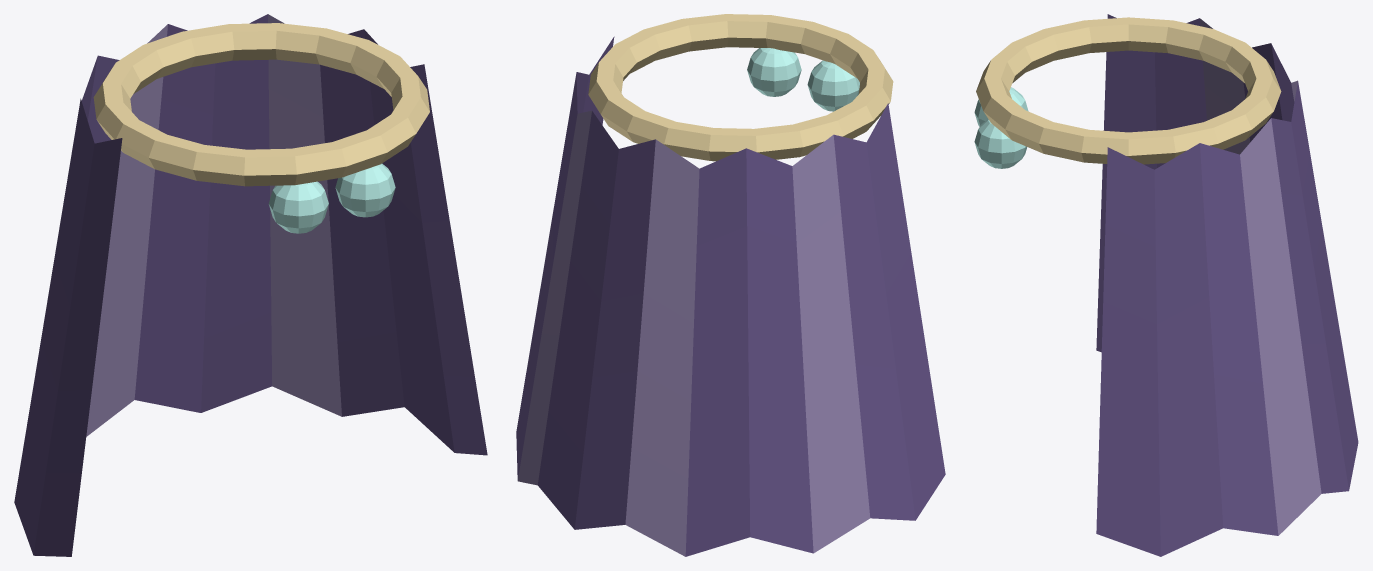
Rendered from cloak-2.glb.
The picture shows the model from 3 angles, left to right: view 1: azimuth 30°, elevation 25°; view 2: azimuth 150°, elevation 25°; view 3: azimuth 270°, elevation 25°; orthographic projection. The views are drawn at different scales.
Parts seen in each view (by area): view 1: Moonweave cape tier 2, Gold collar.001, Moon clasp.001, Moon clasp.002; view 2: Moonweave cape tier 2, Gold collar.001, Moon clasp.002, Moon clasp.001; view 3: Moonweave cape tier 2, Gold collar.001, Moon clasp.002.
Part boxes in pixels (x1=…): Moonweave cape tier 2: x1=14, y1=14, x2=487, y2=556; Gold collar.001: x1=93, y1=23, x2=429, y2=186; Moon clasp.001: x1=268, y1=181, x2=328, y2=233; Moon clasp.002: x1=335, y1=163, x2=395, y2=217; Moonweave cape tier 2: x1=516, y1=36, x2=945, y2=556; Gold collar.001: x1=588, y1=14, x2=893, y2=161; Moon clasp.002: x1=747, y1=48, x2=801, y2=96; Moon clasp.001: x1=807, y1=60, x2=859, y2=111; Moonweave cape tier 2: x1=1096, y1=14, x2=1358, y2=556; Gold collar.001: x1=976, y1=17, x2=1281, y2=164; Moon clasp.002: x1=974, y1=119, x2=1027, y2=168.
Size of the model in its own units: 1.45 by 1.41 by 1.27.
